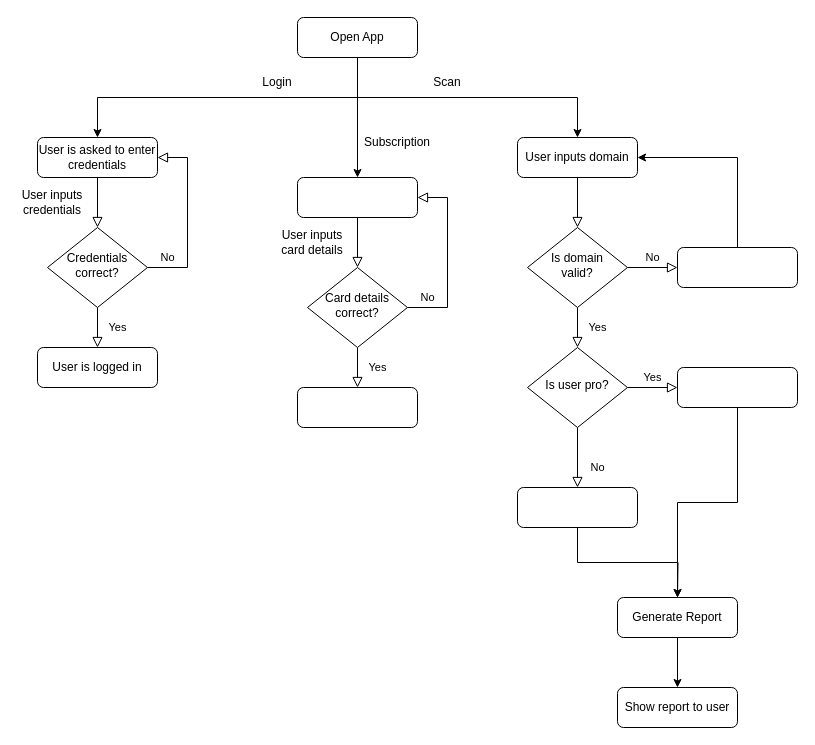
This 815x745 diagram has some shape labels left out. The shapes that lost their labels are listed below. From the top down, each one's centre as x and y in pixels, then its label:
At point 357,197: "User is asked to enter card details".
At point 737,267: "Error".
At point 357,407: "User is subscribed".
At point 737,387: "Scan recursive".
At point 577,507: "Simple scan".
